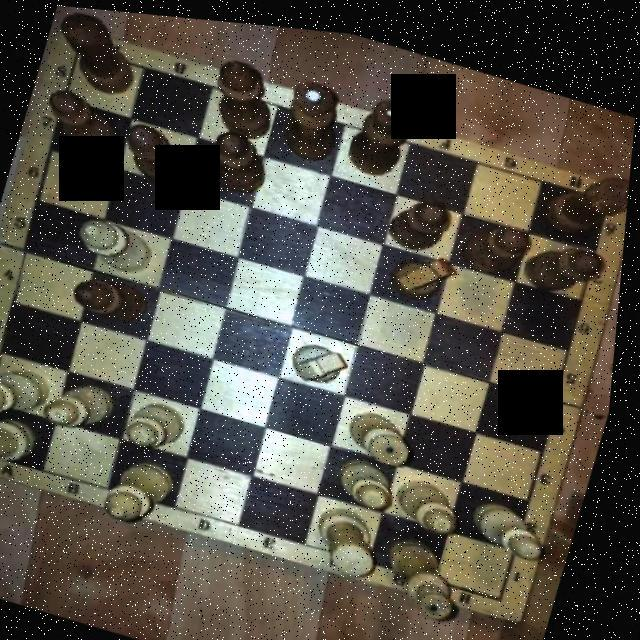chess-table-corners: (472, 554, 543, 614), (46, 21, 116, 81), (568, 156, 632, 218), (0, 420, 26, 480)
